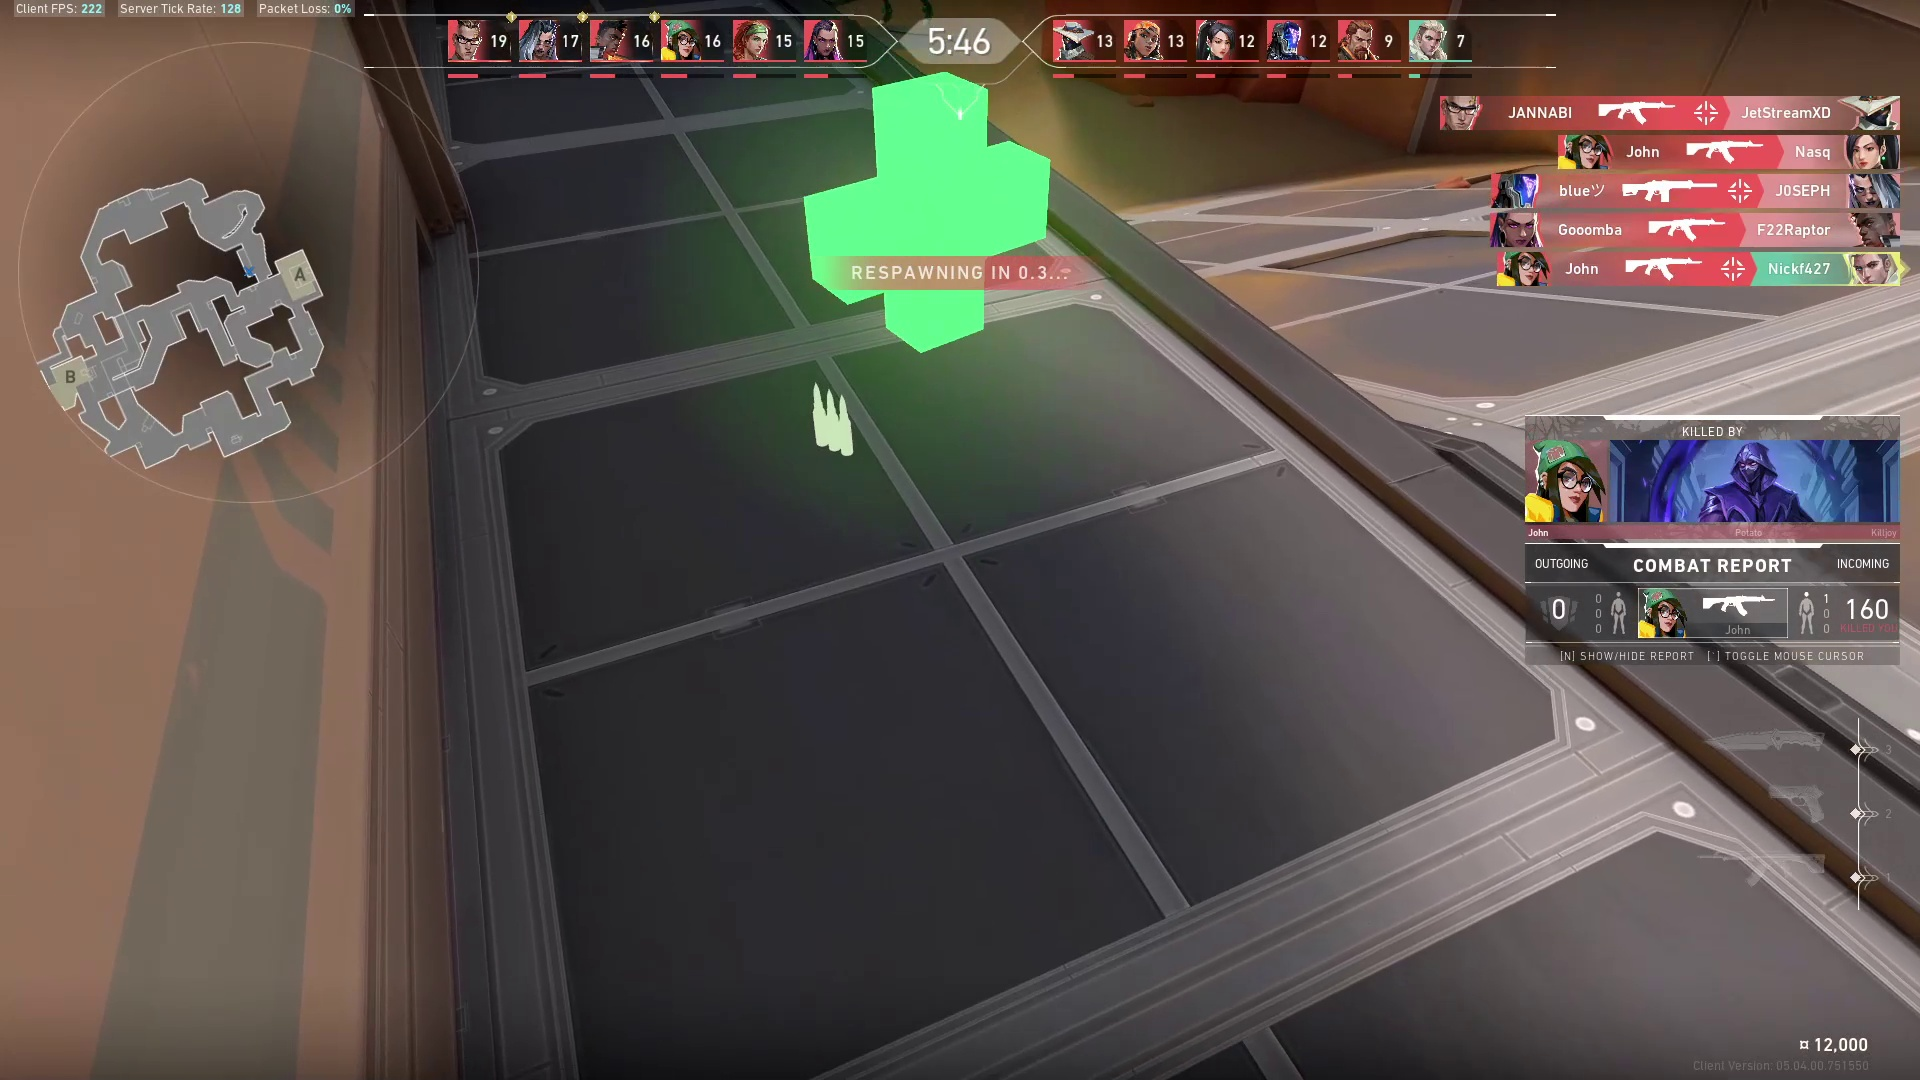enemy_gen: (873, 1, 938, 25)
